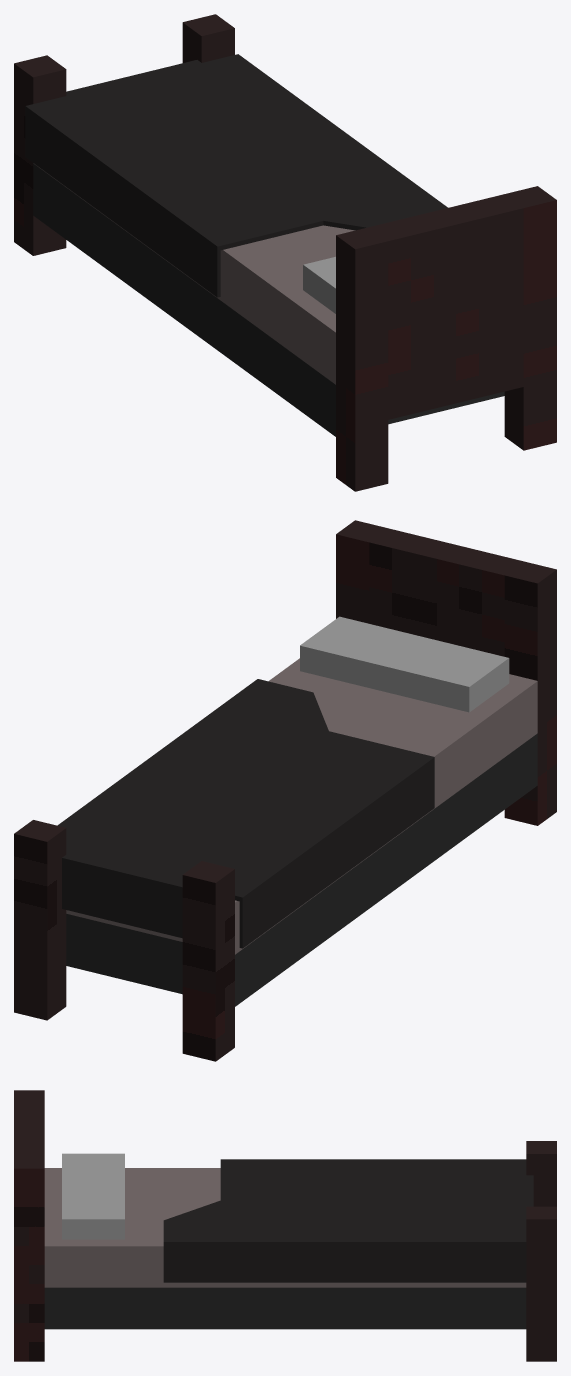
The model's file is bed_twin.gltf.
3 renders of one model, top to bottom at view 1: azimuth 30°, elevation 25°; view 2: azimuth 150°, elevation 25°; view 3: azimuth 270°, elevation 25°, orthographic. The views are drawn at different scales.
Visible parts, largest first — view 1: cube (×5), blanket, box, mattress, pillow; view 2: blanket, cube (×5), box, mattress, pillow; view 3: blanket, box, cube (×5), mattress, pillow.
Part boxes in pixels (box(x1,y1,x2,y2)): cube (×5): box(14, 14, 556, 491); blanket: box(25, 54, 447, 297); box: box(33, 163, 504, 436); mattress: box(33, 163, 355, 384); pillow: box(303, 256, 335, 313); blanket: box(57, 679, 434, 948); cube (×5): box(14, 520, 556, 1061); box: box(66, 733, 537, 1006); mattress: box(66, 658, 537, 954); pillow: box(300, 616, 509, 712); blanket: box(163, 1159, 533, 1282); box: box(44, 1287, 526, 1329); cube (×5): box(14, 1090, 556, 1361); mattress: box(44, 1168, 526, 1287); pillow: box(62, 1153, 124, 1239).
Bounding box in the file's own units: 0.3 × 0.3266 × 0.8328.
5 materials, 5 textured.
